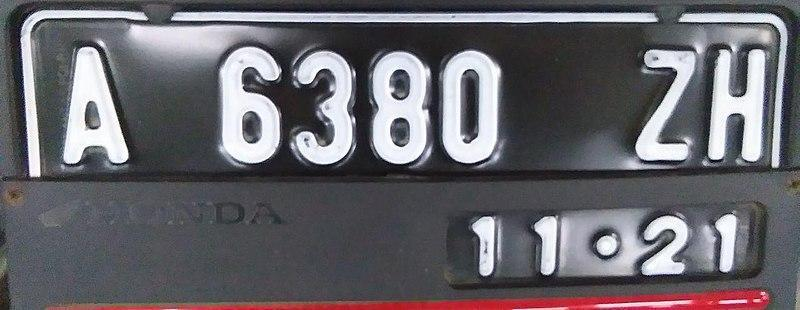0: (436, 44, 512, 170)
3: (288, 41, 362, 171)
6: (211, 41, 289, 172)
8: (361, 44, 437, 170)
A: (48, 36, 138, 175)
H: (702, 39, 774, 169)
Z: (632, 41, 701, 166)
